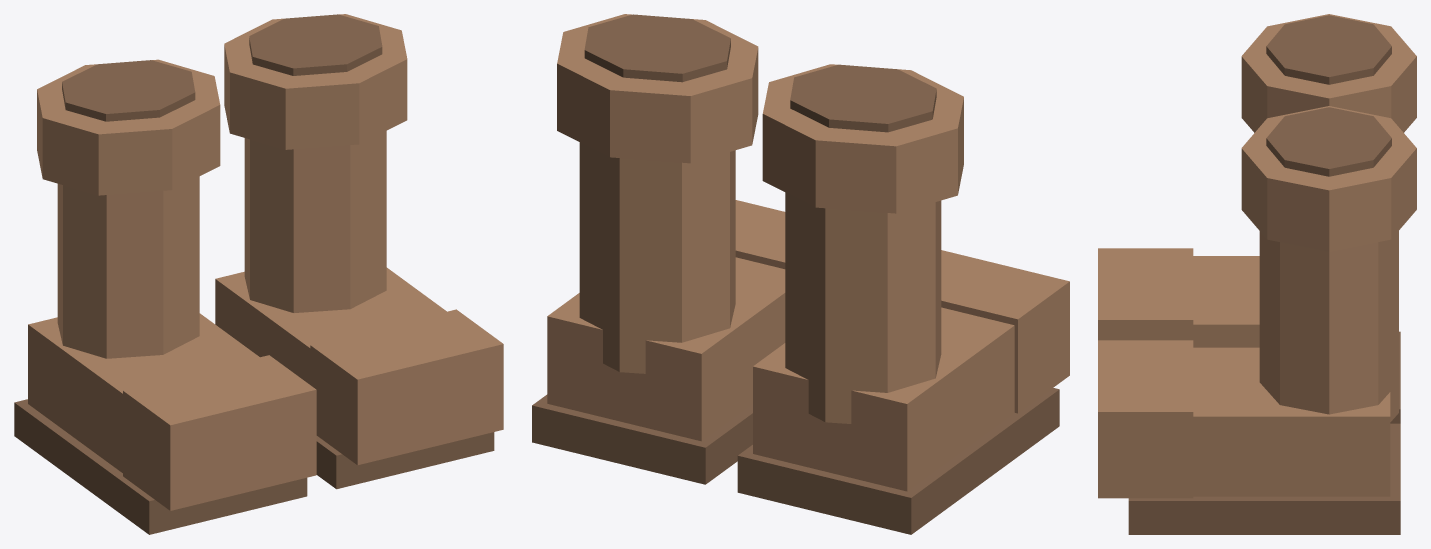
The picture shows the model from 3 angles, left to right: view 1: azimuth 30°, elevation 25°; view 2: azimuth 150°, elevation 25°; view 3: azimuth 270°, elevation 25°; orthographic projection. The views are drawn at different scales.
Parts seen in each view (by area): view 1: left cute squared toe cap, right cute squared toe cap, left boot leg tube, right boot leg tube, right chunky folded cuff, left chunky folded cuff, left rounded boot foot, right rounded boot foot, left darker simple sole, left dark boot opening, right dark boot opening, right darker simple sole; view 2: left boot leg tube, right boot leg tube, left rounded boot foot, right rounded boot foot, right chunky folded cuff, left chunky folded cuff, left darker simple sole, left cute squared toe cap, right darker simple sole, right dark boot opening, left dark boot opening, right cute squared toe cap; view 3: right boot leg tube, right rounded boot foot, right cute squared toe cap, right chunky folded cuff, right darker simple sole, left chunky folded cuff, left cute squared toe cap, left dark boot opening, right dark boot opening, left rounded boot foot.
Part boxes in pixels (x1,y1,x2,y2): left cute squared toe cap: (123,355,316,510); right cute squared toe cap: (310,309,503,465); left boot leg tube: (57,176,199,358); right boot leg tube: (244,131,386,312); right chunky folded cuff: (224,14,407,149); left chunky folded cuff: (37,59,220,195); left rounded boot foot: (28,313,259,472); right rounded boot foot: (215,267,446,384); left darker simple sole: (14,399,307,534); left dark boot opening: (62,60,195,121); right dark boot opening: (249,14,382,75); right darker simple sole: (316,432,494,489); left boot leg tube: (785,192,941,423); right boot leg tube: (579,142,735,373); left rounded boot foot: (753,307,1014,491); right rounded boot foot: (547,257,785,441); right chunky folded cuff: (557,14,758,163); left chunky folded cuff: (762,64,963,213); left darker simple sole: (737,388,1059,534); left cute squared toe cap: (941,250,1069,413); right darker simple sole: (532,394,752,484); right dark boot opening: (584,14,730,82); left dark boot opening: (790,64,936,132); right cute squared toe cap: (735,200,785,269); right boot leg tube: (1259,231,1398,421); right rounded boot foot: (1193,347,1390,496); right cute squared toe cap: (1098,340,1193,498); right chunky folded cuff: (1241,106,1416,251); right darker simple sole: (1128,423,1400,534); left chunky folded cuff: (1241,14,1416,132); left cute squared toe cap: (1098,248,1193,340); left dark boot opening: (1266,15,1391,84); right dark boot opening: (1266,107,1391,176); left rounded boot foot: (1193,256,1259,347).
Bounding box in the file's own units: 1.23 × 1.16 × 0.938.
